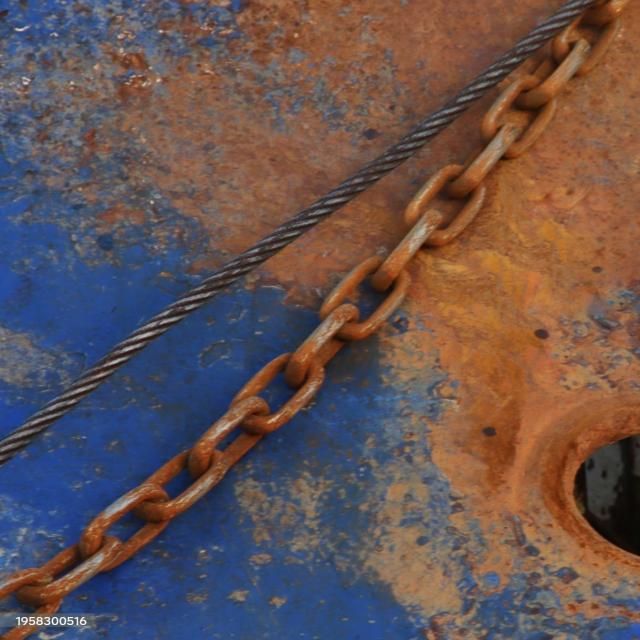Uniform Corrosion: (370, 0, 639, 630), (84, 0, 567, 251), (264, 44, 552, 302), (0, 356, 287, 613), (504, 40, 589, 158), (244, 358, 324, 434), (286, 305, 358, 386), (371, 210, 442, 291), (446, 123, 520, 197), (338, 269, 411, 341), (319, 256, 384, 319), (426, 181, 486, 246), (404, 165, 462, 224), (481, 76, 534, 138), (578, 15, 619, 74), (421, 193, 464, 230), (551, 18, 581, 64), (309, 339, 344, 375), (586, 0, 629, 25), (500, 108, 532, 134)
